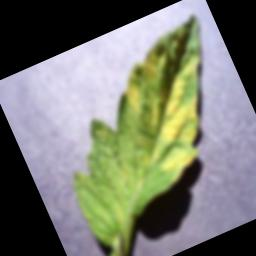Leaf_Mold: (97, 11, 253, 187)
